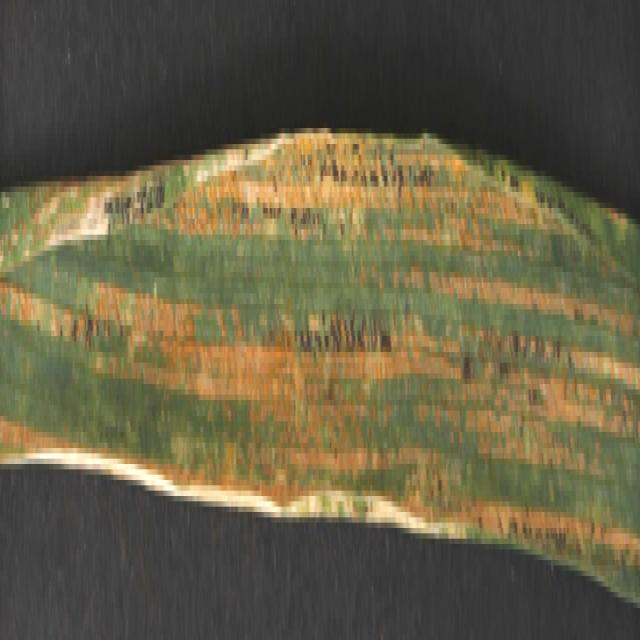leaf rust: (1, 139, 640, 592)
